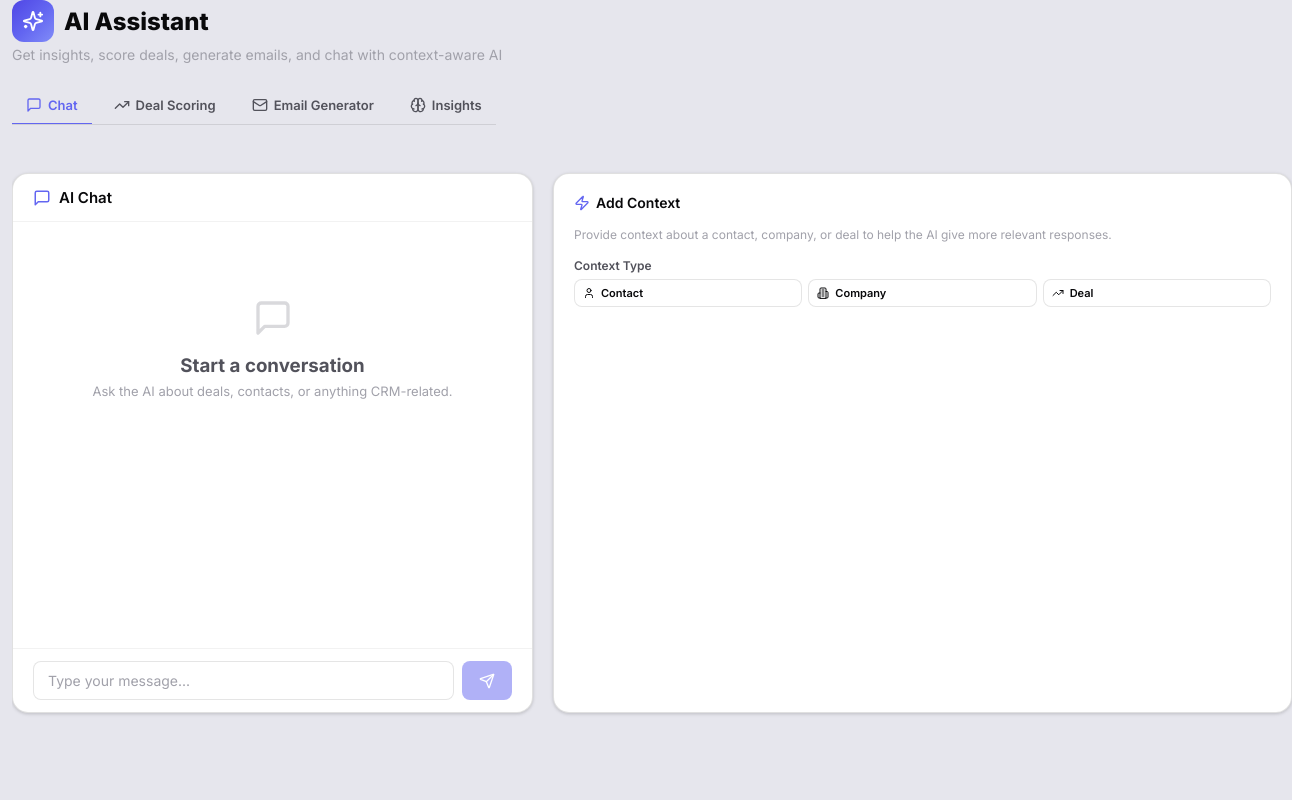
Test: AIAssistant › switches to email tab
Click the button "Email Generator": coordinates (313, 106) x1=238 y1=87 x2=388 y2=125
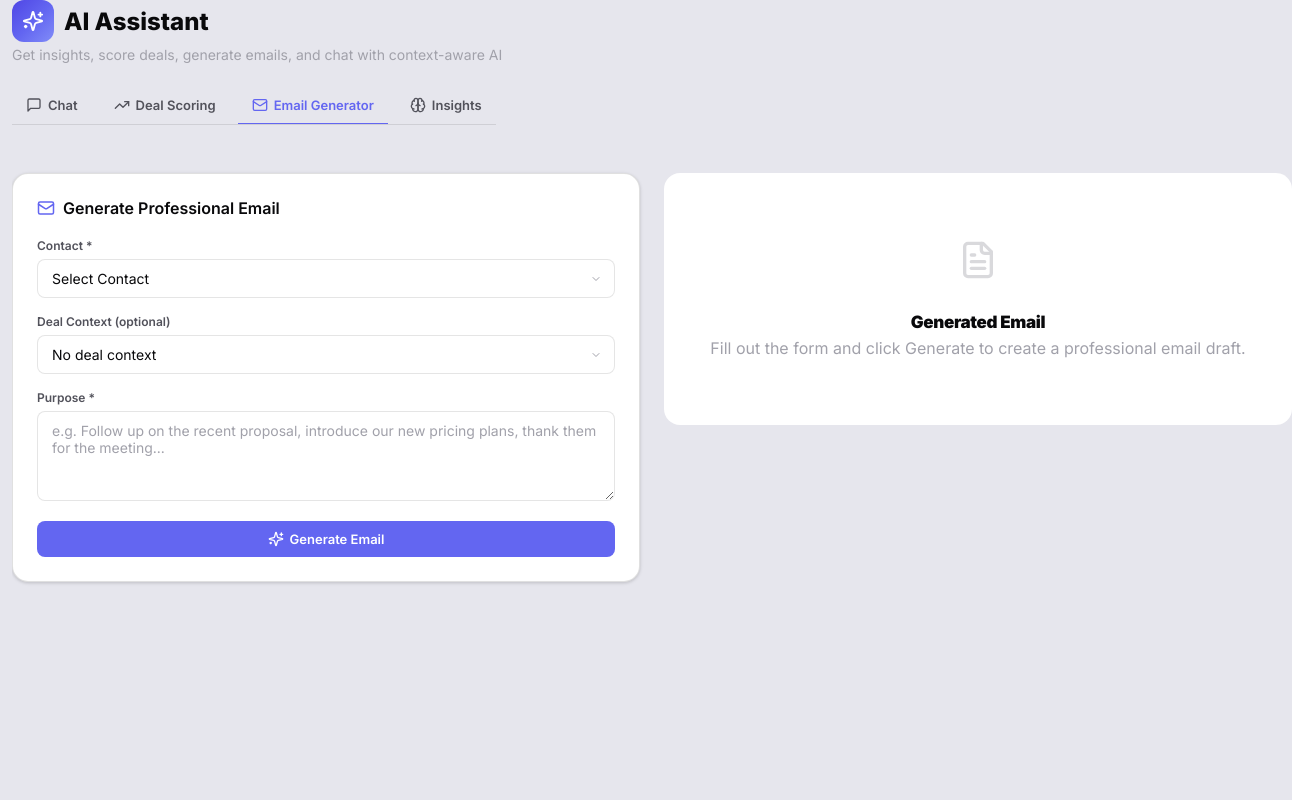
Check: the heading "Generate Professional Email" is shown, box x1=37 y1=198 x2=280 y2=218
